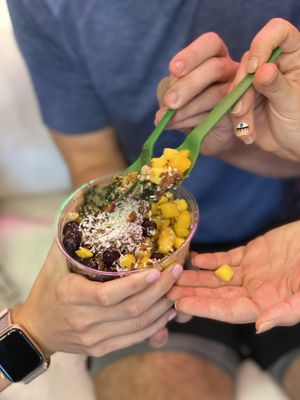sushi: (55, 162, 199, 282)
